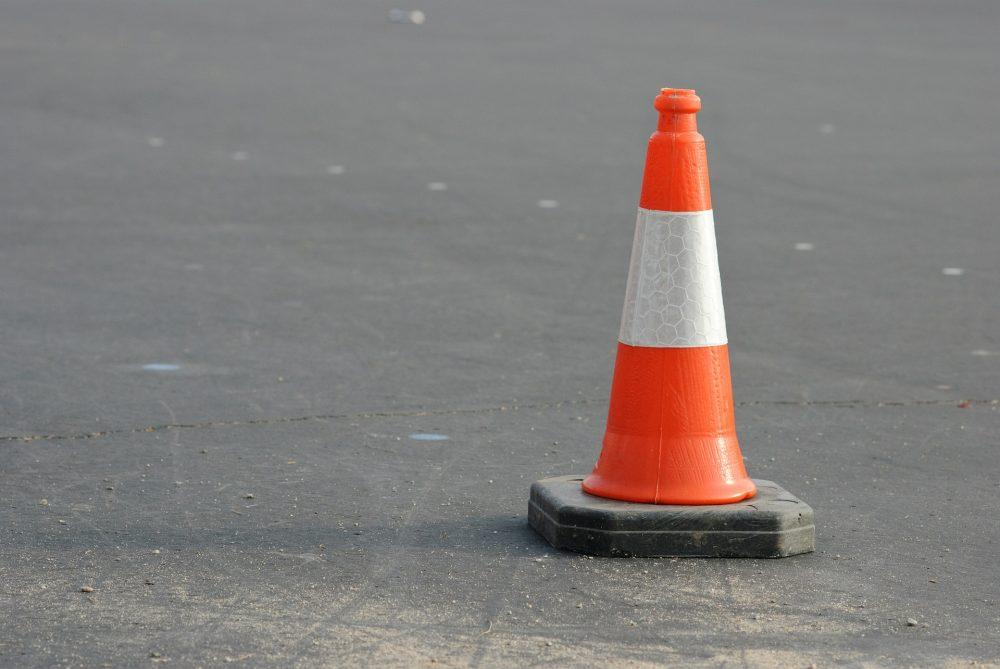traffic cone: (527, 85, 815, 558), (581, 86, 758, 504)
